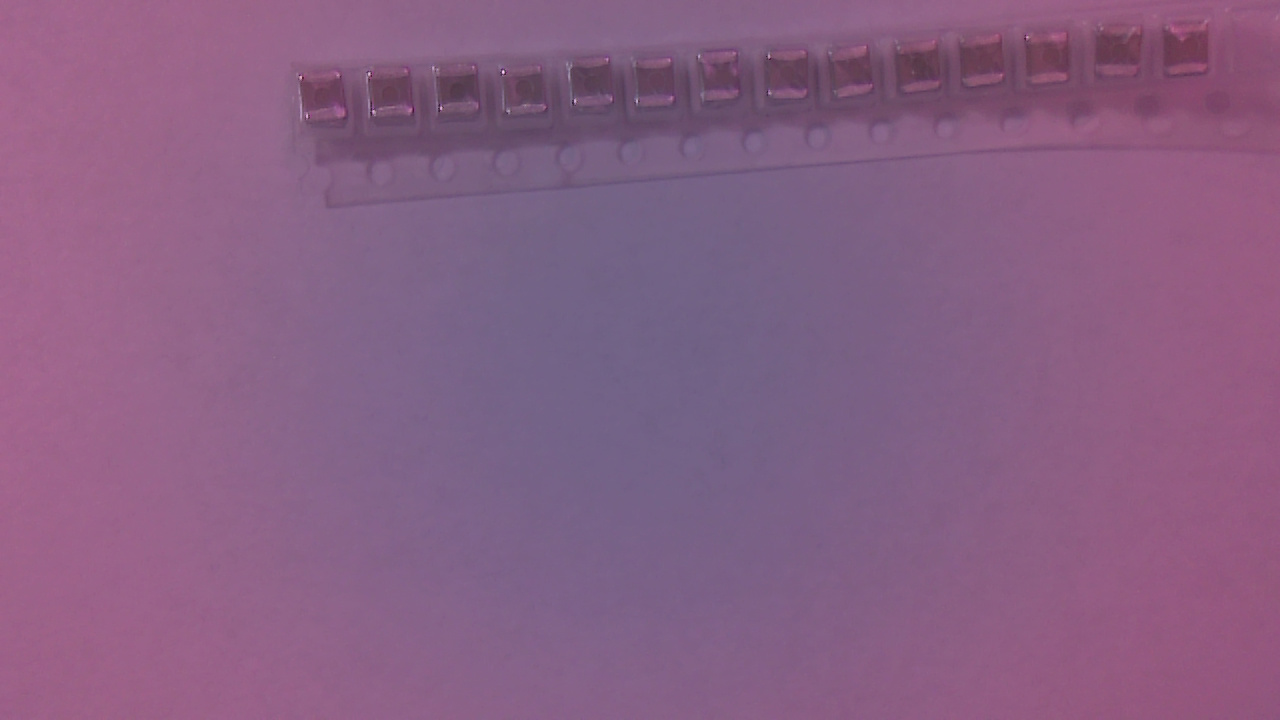Condensator: (370, 65, 424, 123), (436, 65, 486, 126), (570, 59, 620, 119), (505, 66, 558, 121), (304, 74, 356, 130), (900, 38, 946, 101), (831, 47, 879, 105), (699, 52, 748, 108), (1168, 26, 1216, 82), (769, 51, 814, 110), (1101, 26, 1146, 84), (636, 58, 682, 113), (1029, 34, 1075, 88), (967, 37, 1011, 93)
